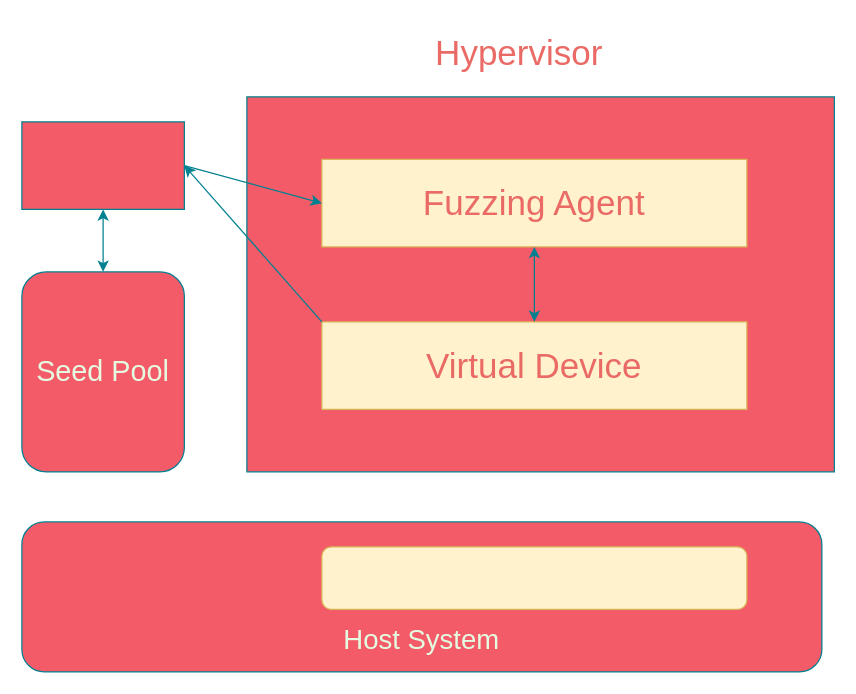
This 856x694 diagram has some shape labels left out. The centre of each missing label's shape, as x and y in pixels:
Fuzzer: pixel 102 165
Kernel Driver: pixel 534 577
